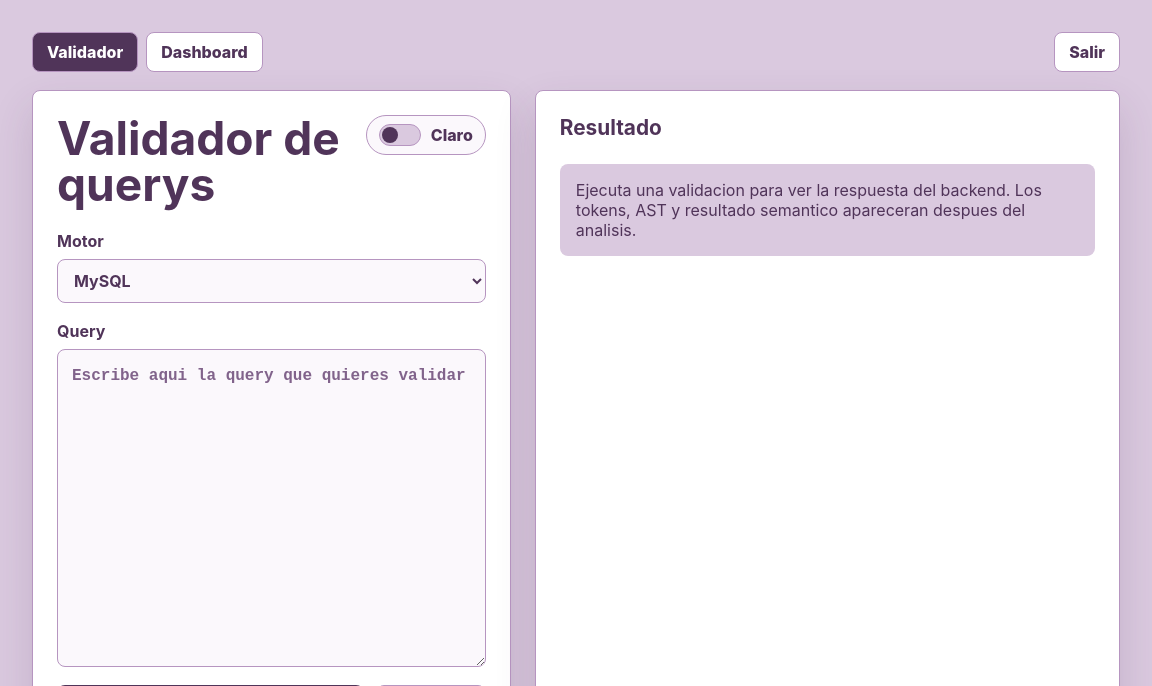
it: App › dashboard muestra error si falla la carga
Click the button "Dashboard".
click(204, 52)  # box [146,32,263,72]
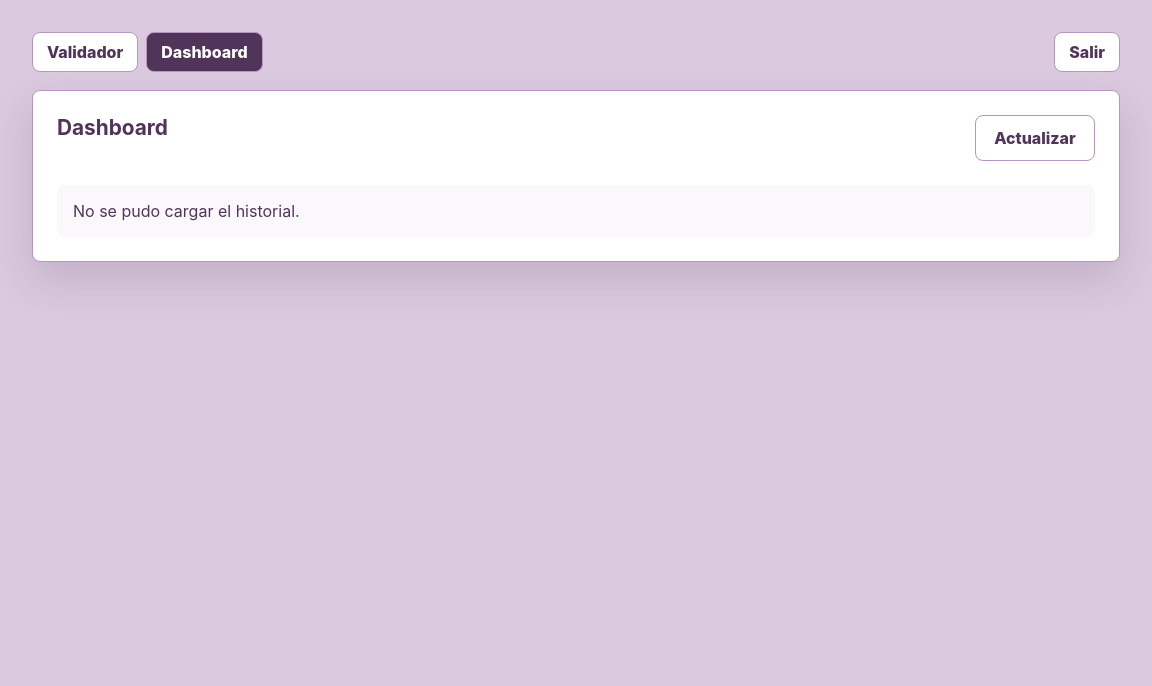
Now the text "No se pudo cargar el historial." is shown, box [57,185,1095,237]
